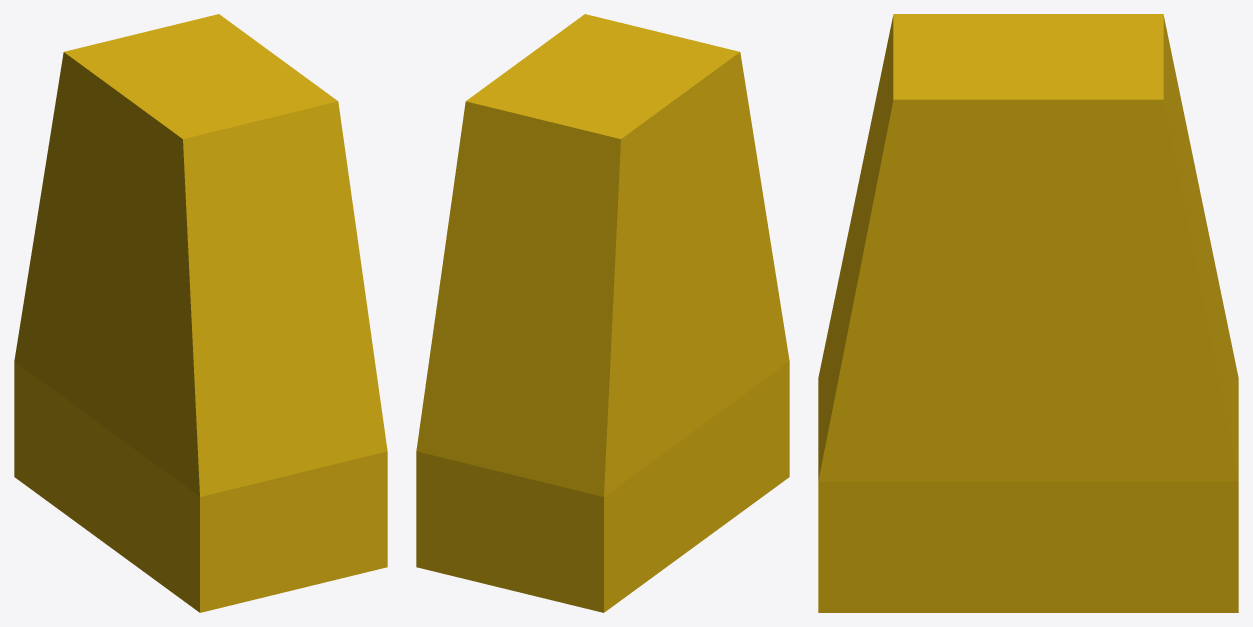
The model's file is CornKernel.gltf.
3 views of the same model, side by side, from view 1: azimuth 30°, elevation 25°; view 2: azimuth 150°, elevation 25°; view 3: azimuth 270°, elevation 25° (orthographic). The views are drawn at different scales.
Visible parts, largest first — view 1: kernel; view 2: kernel; view 3: kernel.
Boxes of the visible parts, x1,y1,x2,y2 form: kernel: (14, 14, 387, 612); kernel: (416, 14, 789, 612); kernel: (818, 14, 1238, 612).
Bounding box in the file's own units: 0.00859 × 0.0195 × 0.0147.
